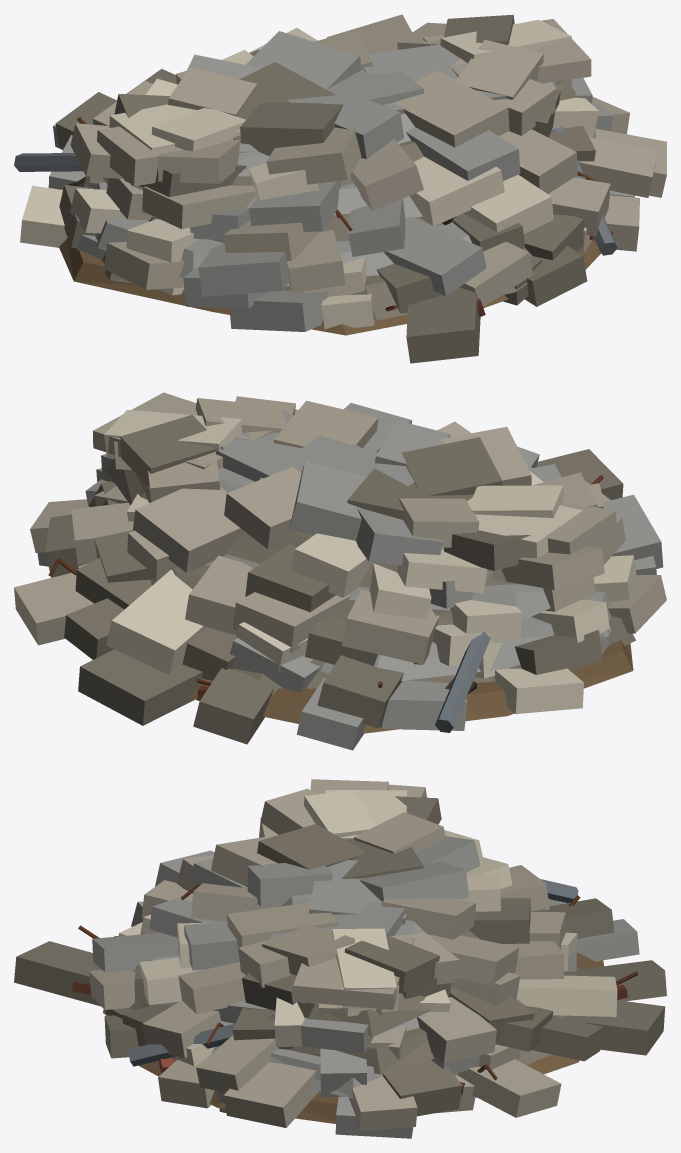
File: rubble_field_m.glb
The picture shows the model from 3 angles, top to bottom: view 1: azimuth 30°, elevation 25°; view 2: azimuth 150°, elevation 25°; view 3: azimuth 270°, elevation 25°; orthographic projection. The views are drawn at different scales.
Parts seen in each view (by area): view 1: rubble_field_m; view 2: rubble_field_m; view 3: rubble_field_m.
Part boxes in pixels (x1=…): rubble_field_m: x1=14, y1=14, x2=666, y2=363; rubble_field_m: x1=14, y1=392, x2=666, y2=750; rubble_field_m: x1=14, y1=779, x2=666, y2=1138.
Size of what is drawn, in the model's own units: 8.4 by 2.22 by 8.97.
Materials: 2 (2 with a texture image).
